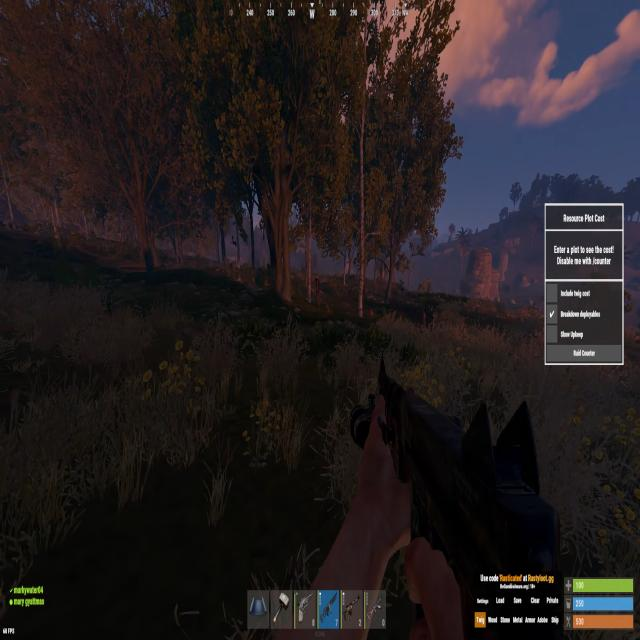Player: (314, 275, 320, 301)
